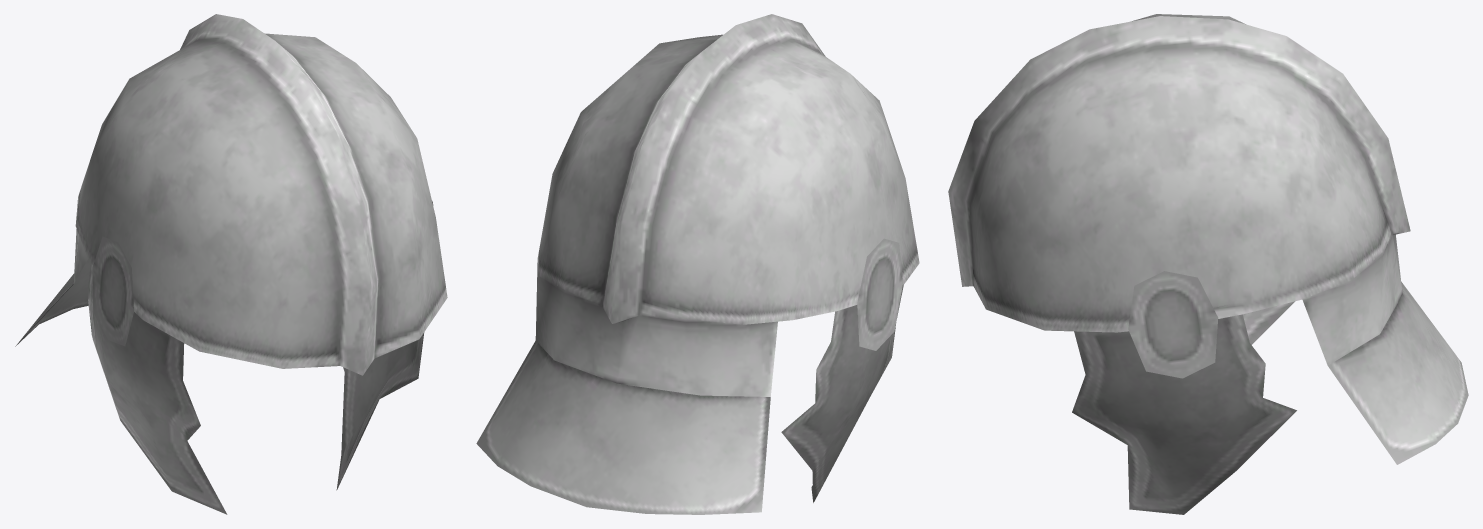
File: rider-helmet-slice-mediumcavalry.glb
The picture shows the model from 3 angles, left to right: view 1: azimuth 30°, elevation 25°; view 2: azimuth 150°, elevation 25°; view 3: azimuth 270°, elevation 25°; orthographic projection. The views are drawn at different scales.
Bounding box in the file's own units: 0.2512 × 0.3614 × 0.3629.
1 material, 1 textured.
